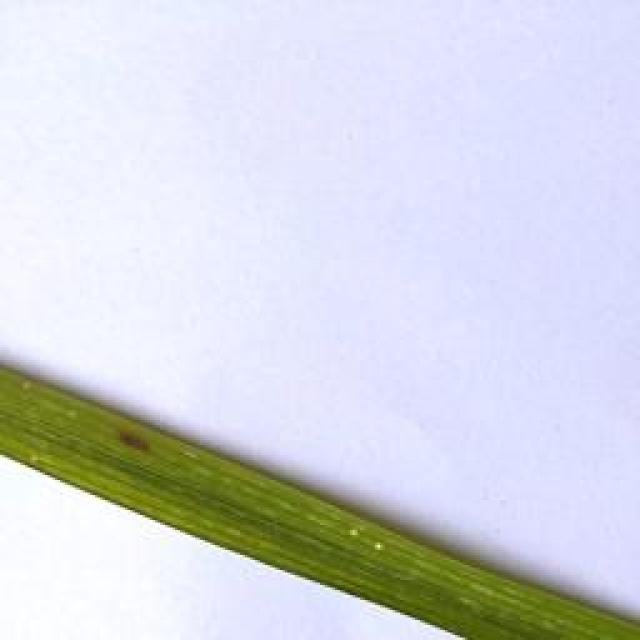Brown_Spot: (100, 414, 159, 464)
